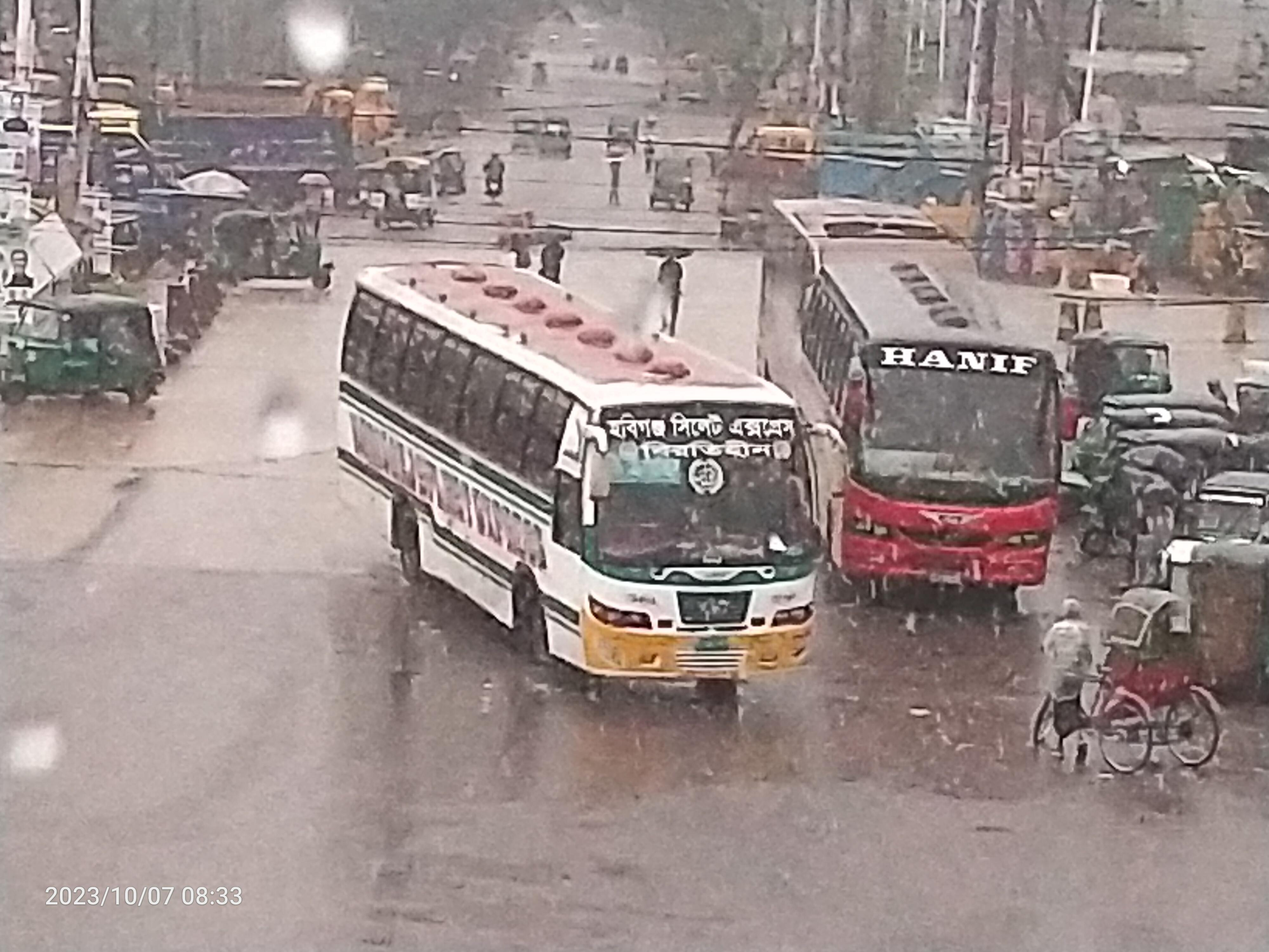Bus: (314, 245, 846, 733), (767, 228, 1083, 636)
Car: (1015, 574, 1259, 799)
Truck: (39, 86, 367, 193)
